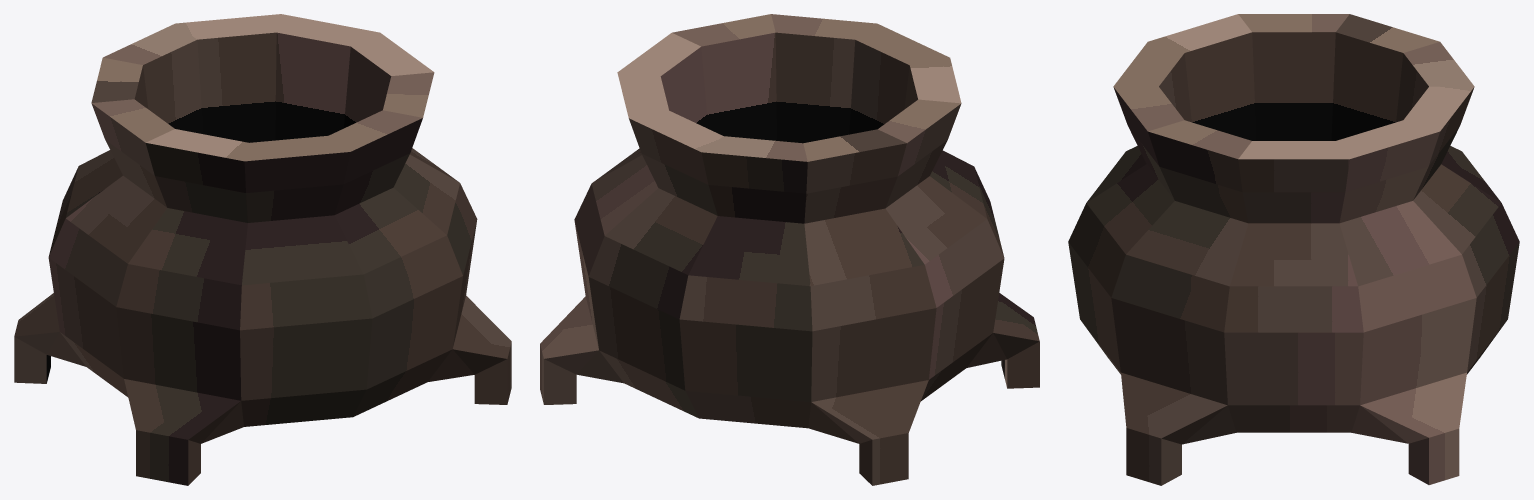
File: pot_944x03.gltf
3 renders of one model, left to right at view 1: azimuth 30°, elevation 25°; view 2: azimuth 150°, elevation 25°; view 3: azimuth 270°, elevation 25°, orthographic. The views are drawn at different scales.
Parts seen in each view (by area): view 1: pot_944x03; view 2: pot_944x03; view 3: pot_944x03.
Boxes of the visible parts, left/top/right/bottom form: pot_944x03: left=14, top=14, right=511, bottom=485; pot_944x03: left=540, top=14, right=1039, bottom=485; pot_944x03: left=1068, top=14, right=1519, bottom=485.
Size of the model in its own units: 1.3 by 0.992 by 1.32.
Materials: 1 (1 with a texture image).
